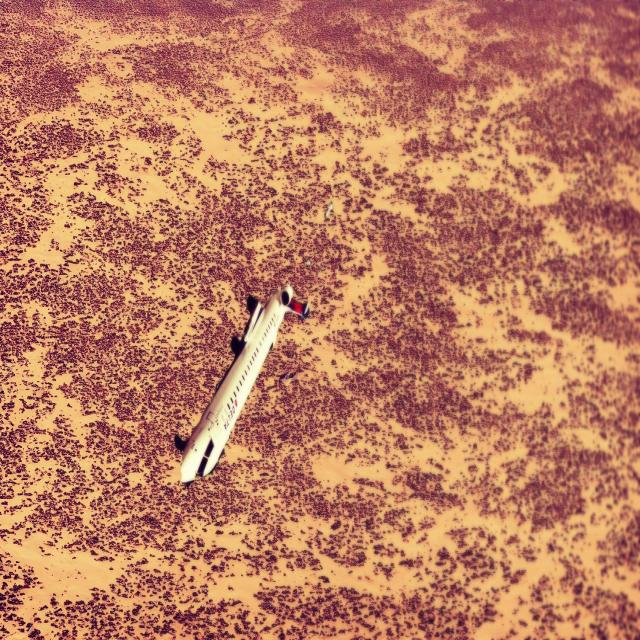airplane: (178, 283, 310, 485)
